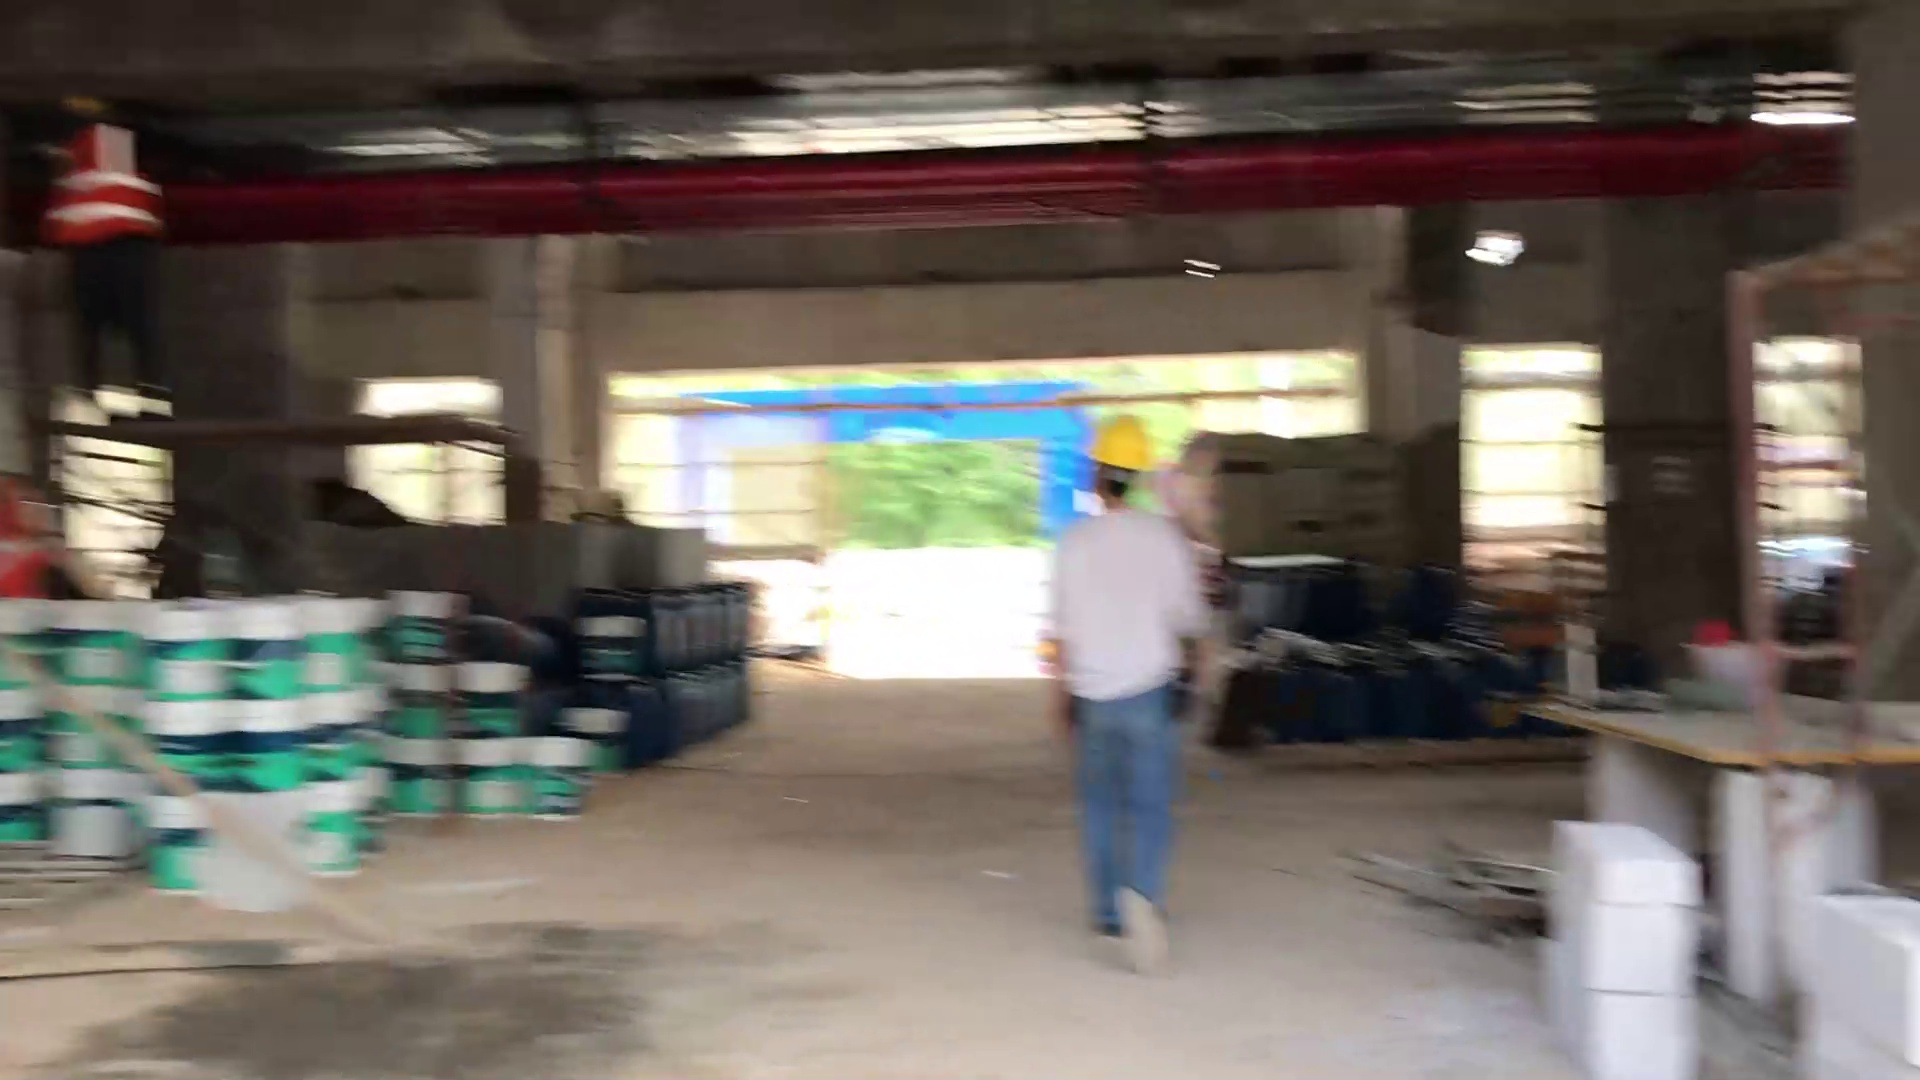helmet: (1080, 406, 1166, 478)
person: (1028, 390, 1247, 982), (30, 93, 204, 412)
vest: (40, 123, 181, 255)
